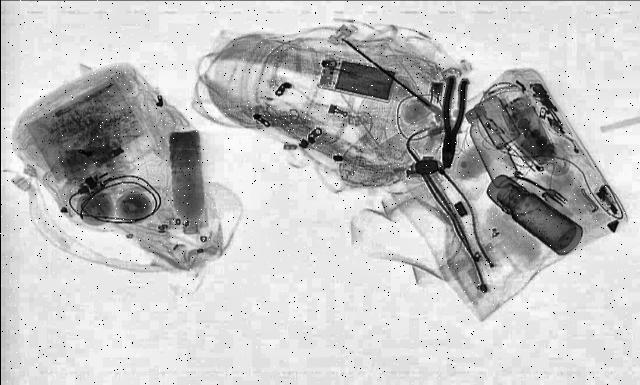Pliers: (434, 78, 470, 168)
